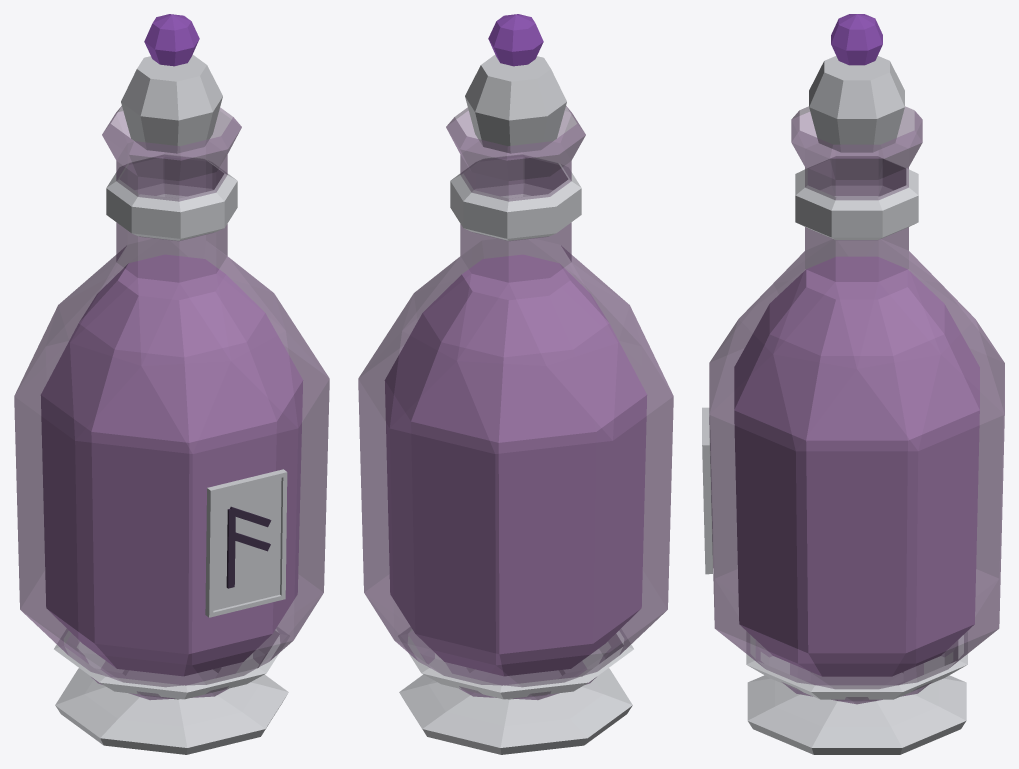
File: bottle_t3.fbx
3 renders of one model, left to right at view 1: azimuth 30°, elevation 25°; view 2: azimuth 150°, elevation 25°; view 3: azimuth 270°, elevation 25°, orthographic.
Parts seen in each view (by area): view 1: bottle_t3, mist_t3; view 2: bottle_t3, mist_t3; view 3: bottle_t3, mist_t3.
Boxes of the visible parts, x1,y1,x2,y2 form: bottle_t3: [14, 14, 329, 754]; mist_t3: [41, 254, 303, 676]; bottle_t3: [358, 14, 673, 754]; mist_t3: [384, 254, 646, 676]; bottle_t3: [702, 14, 1004, 754]; mist_t3: [734, 256, 979, 676].
Bounding box in the file's own units: 9.98 × 25.95 × 10.22.
